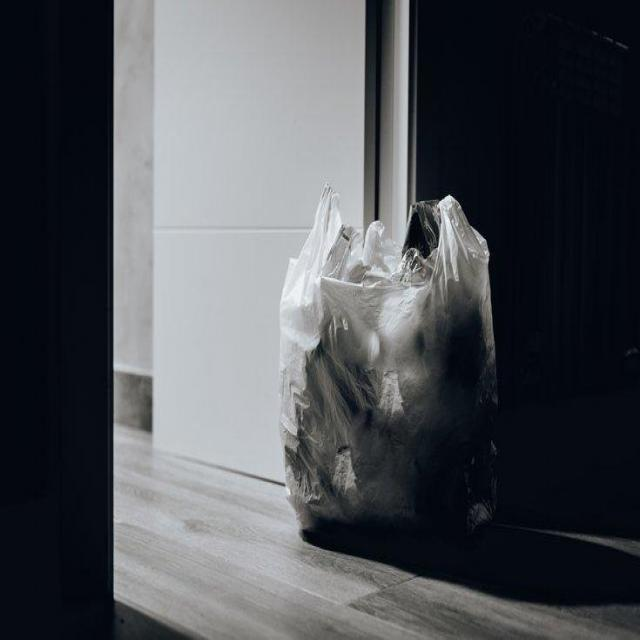plastic_bag: (281, 176, 506, 547)
